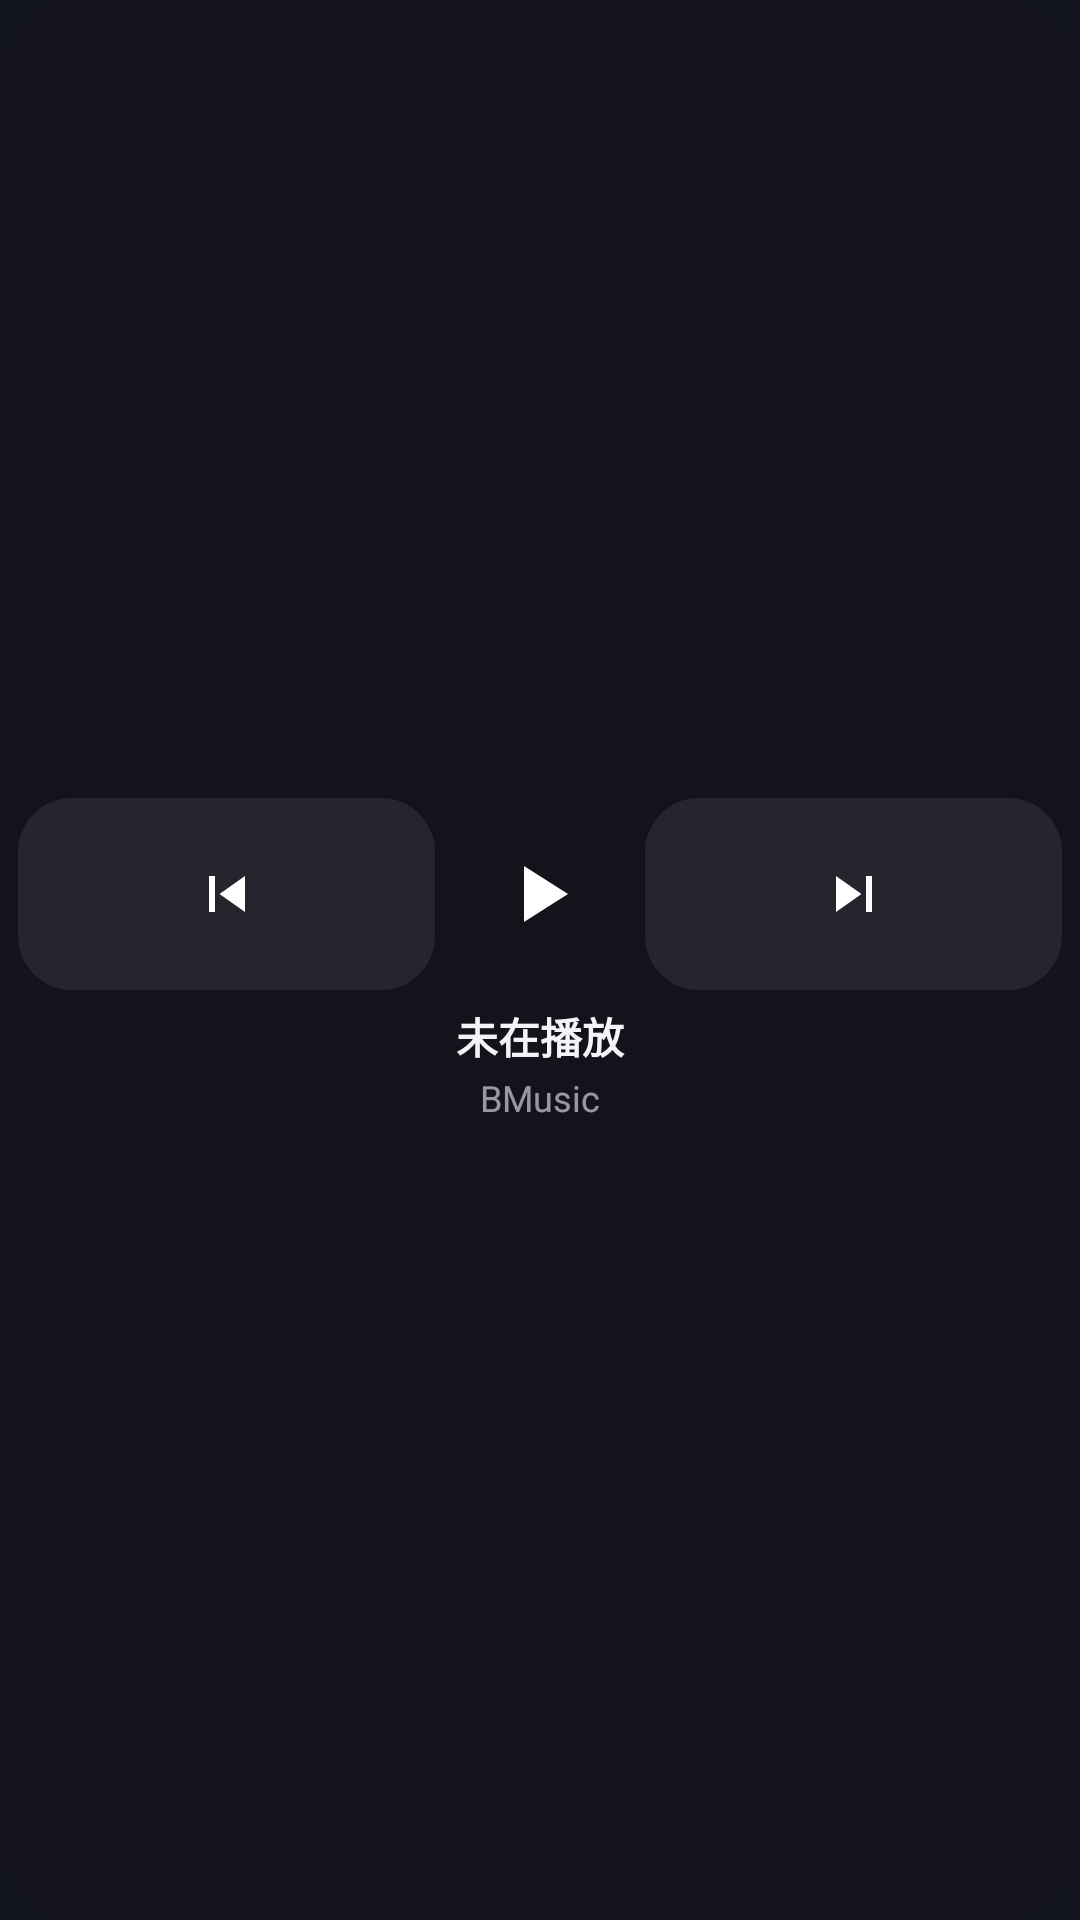

Icon click points for this 1080x1920 phone screenshot, format point (x, y):
上一首: point (227, 894)
下一首: point (854, 894)
播放 / 暂停: point (546, 894)
